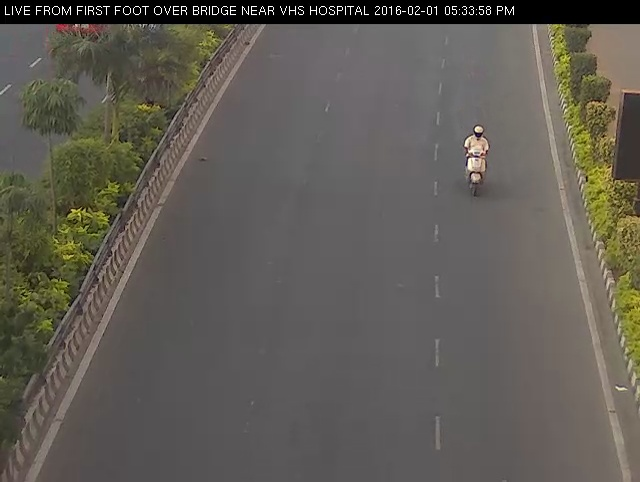Person: (457, 120, 493, 203)
